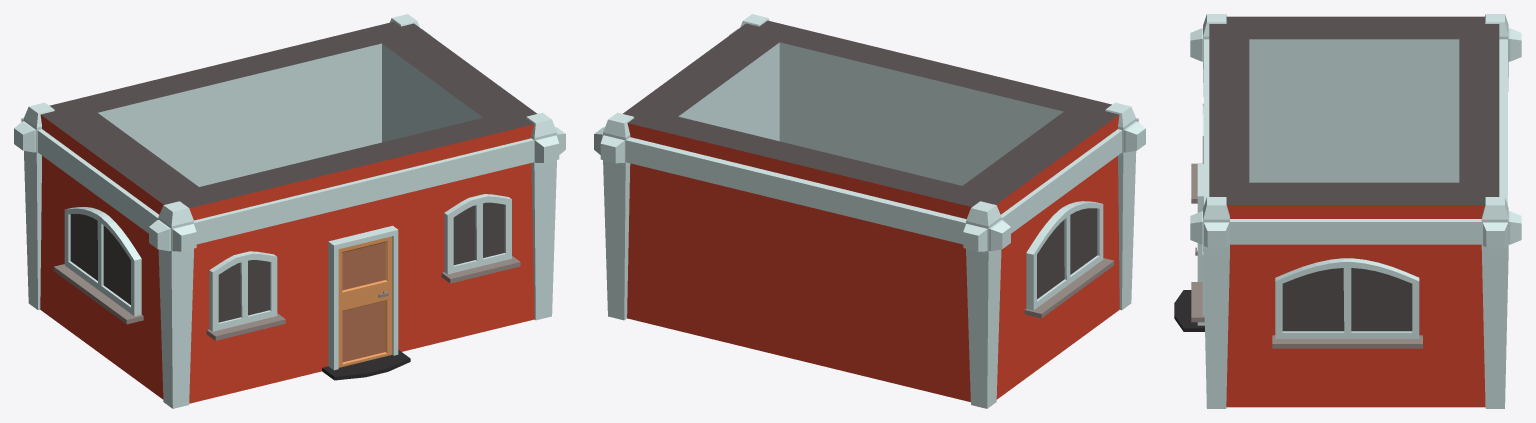
The model's file is Testhouse_Foundation_VAR2.fbx.
The picture shows the model from 3 angles, left to right: view 1: azimuth 30°, elevation 25°; view 2: azimuth 150°, elevation 25°; view 3: azimuth 270°, elevation 25°; orthographic projection. The views are drawn at different scales.
Visible parts, largest first — view 1: Testhouse_Foundation.002; view 2: Testhouse_Foundation.002; view 3: Testhouse_Foundation.002.
Part boxes in pixels (bbox=[...]): Testhouse_Foundation.002: bbox=[14, 14, 565, 408]; Testhouse_Foundation.002: bbox=[594, 14, 1145, 408]; Testhouse_Foundation.002: bbox=[1174, 14, 1521, 408].
Bounding box in the file's own units: 219 × 156 × 101.
